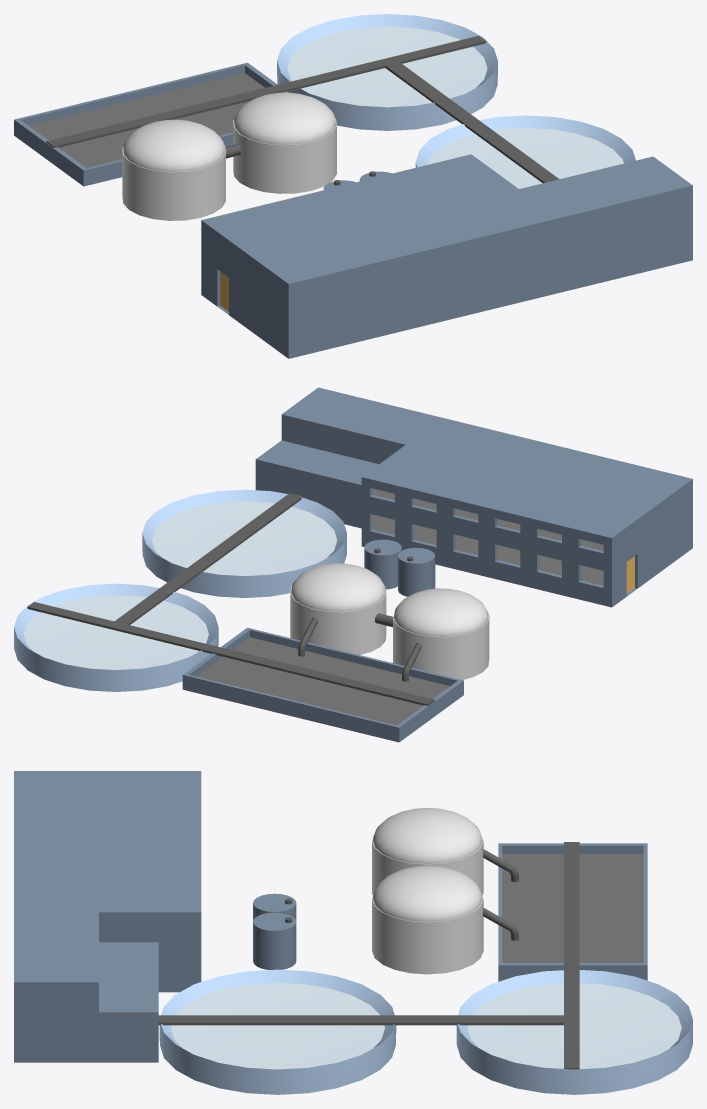
File: Filtration Plant.fbx
3 views of the same model, one above another, from view 1: azimuth 30°, elevation 25°; view 2: azimuth 150°, elevation 25°; view 3: azimuth 270°, elevation 25° (orthographic). The views are drawn at different scales.
Visible parts, largest first — view 1: pCube17, pDisc3, pCube16, pDisc4, pCube18, pCylinder13, pCylinder14, pSphere11, pSphere10; view 2: pCube17, pCube16, pDisc3, pDisc4, pCube18, pCylinder13, pCylinder14, pSphere11, pSphere10, pCylinder19, pCylinder18; view 3: pCube17, pDisc4, pDisc3, pCube16, pCube18, pCylinder14, pSphere10, pSphere11, pCylinder18, pCylinder13, pCylinder19.
Boxes of the visible parts, left/top/right/bottom form: pCube17: left=201, top=154, right=692, bottom=358; pDisc3: left=277, top=14, right=497, bottom=130; pCube16: left=14, top=62, right=287, bottom=186; pDisc4: left=415, top=115, right=635, bottom=188; pCube18: left=46, top=35, right=559, bottom=183; pCylinder13: left=122, top=145, right=225, bottom=220; pCylinder14: left=233, top=118, right=336, bottom=193; pSphere11: left=234, top=92, right=335, bottom=144; pSphere10: left=123, top=119, right=225, bottom=171; pCube17: left=255, top=387, right=692, bottom=607; pCube16: left=182, top=627, right=463, bottom=742; pDisc3: left=14, top=583, right=218, bottom=691; pDisc4: left=142, top=489, right=346, bottom=597; pCube18: left=27, top=493, right=434, bottom=705; pCylinder13: left=393, top=612, right=489, bottom=679; pCylinder14: left=290, top=587, right=386, bottom=654; pSphere11: left=291, top=563, right=385, bottom=611; pSphere10: left=394, top=588, right=488, bottom=636; pCylinder19: left=398, top=547, right=435, bottom=596; pCylinder18: left=364, top=539, right=401, bottom=589; pCube17: left=14, top=771, right=201, bottom=1062; pDisc4: left=159, top=969, right=396, bottom=1094; pDisc3: left=456, top=970, right=692, bottom=1094; pCube16: left=498, top=843, right=647, bottom=981; pCube18: left=158, top=842, right=579, bottom=1069; pCylinder14: left=372, top=895, right=483, bottom=974; pSphere10: left=372, top=807, right=482, bottom=863; pSphere11: left=372, top=865, right=482, bottom=921; pCylinder18: left=253, top=912, right=296, bottom=969; pCylinder13: left=372, top=836, right=483, bottom=895; pCylinder19: left=253, top=893, right=296, bottom=920.
Bounding box in the file's own units: 10.1 × 2.05 × 12.16.
